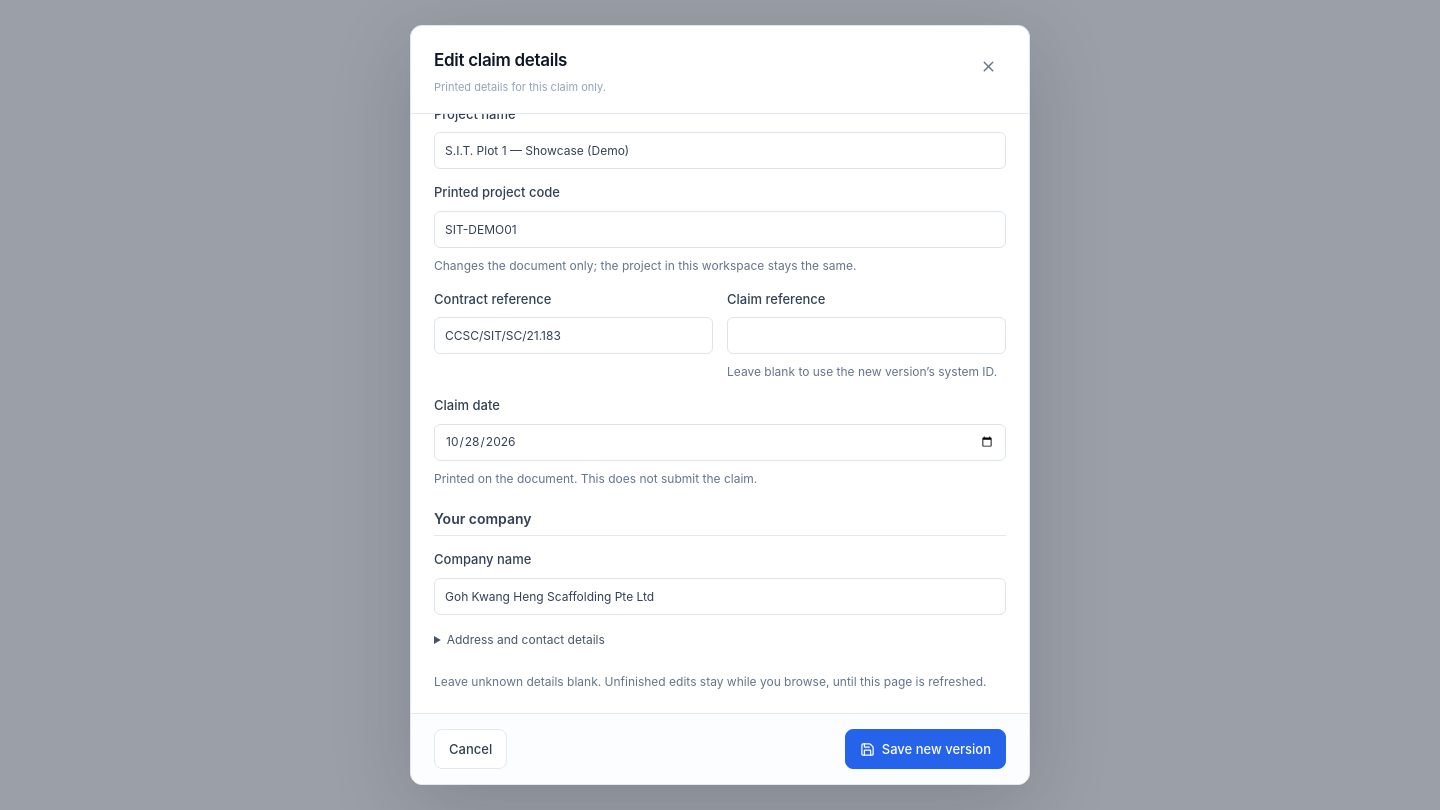
saved claim document detail editing › focuses invalid contact details and keeps the form on rejected saves
The width and height of the screenshot is (1440, 810).
(page scrolled)
Click the heading "Address and contact details": (519, 639) [434,629,605,650]
(page scrolled)
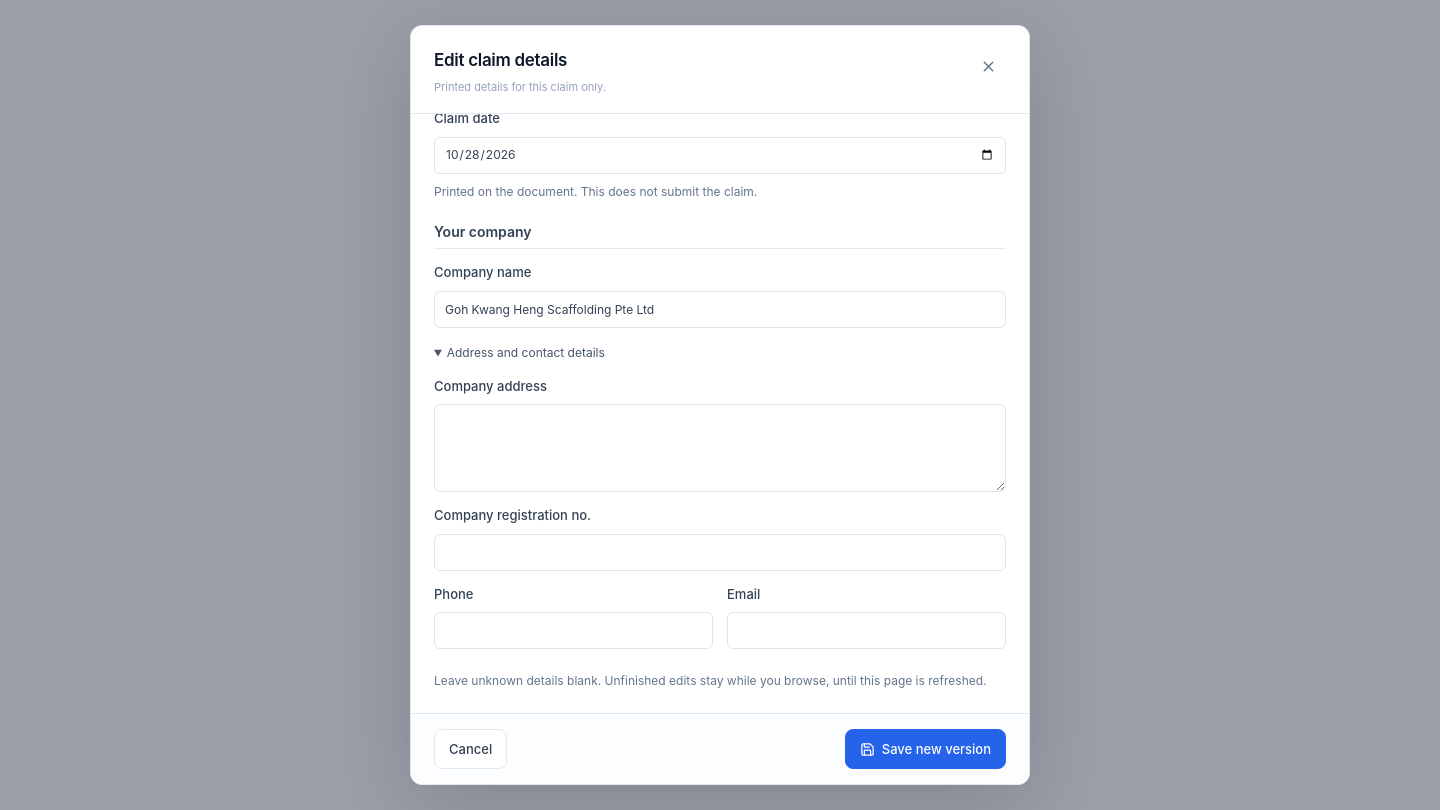
In the field labelled "Email": (866, 631) [727,612,1006,649], type "invalid-email"
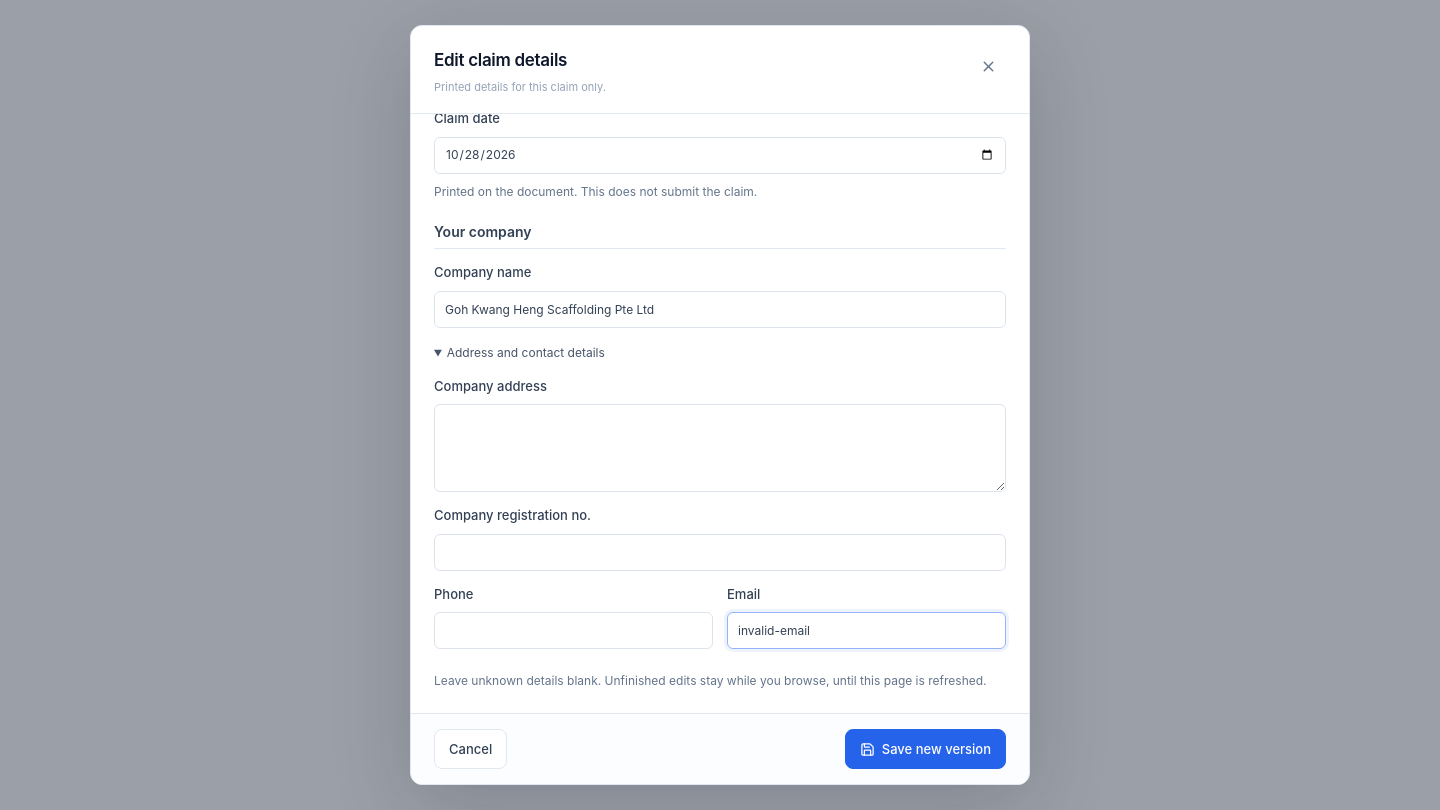
Click the button "Save new version": (925, 749) [845,729,1006,769]
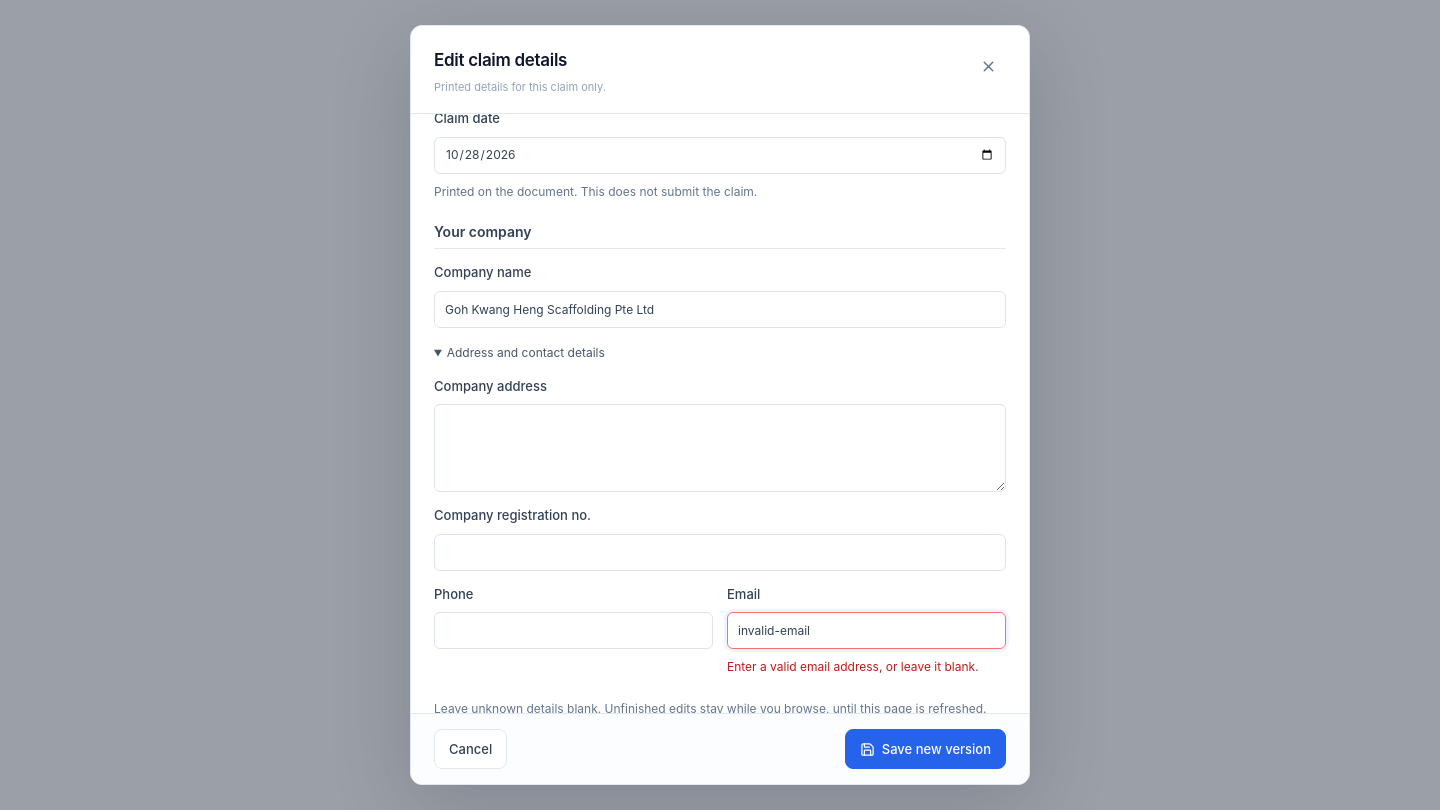
Expected: the text "Enter a valid email address, or leave it blank." is shown, [727,657,1006,677]
Replace the text in the field labelled "Email" with "claims@example.test": (866, 631) [727,612,1006,649]
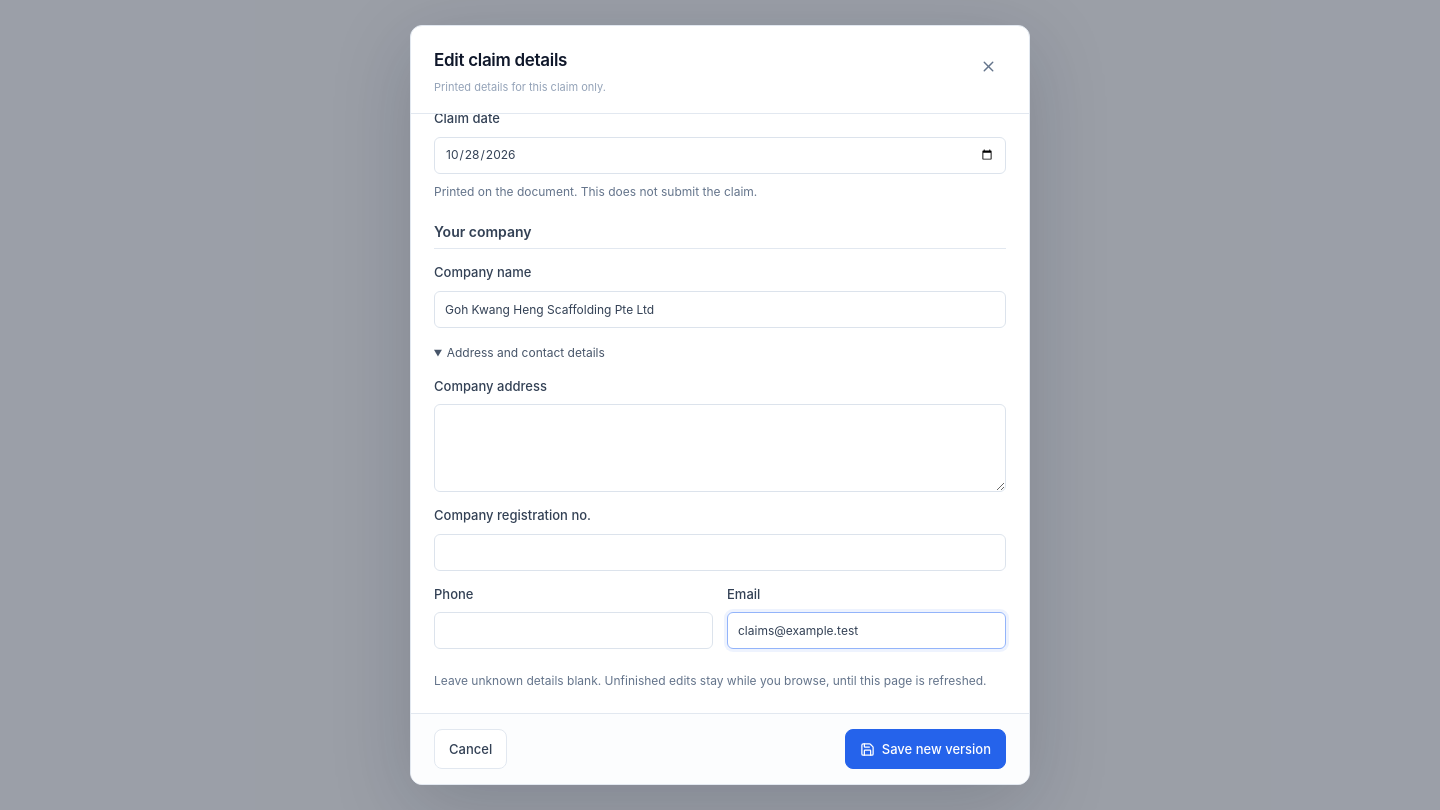
Click the button "Save new version": (925, 749) [845,729,1006,769]
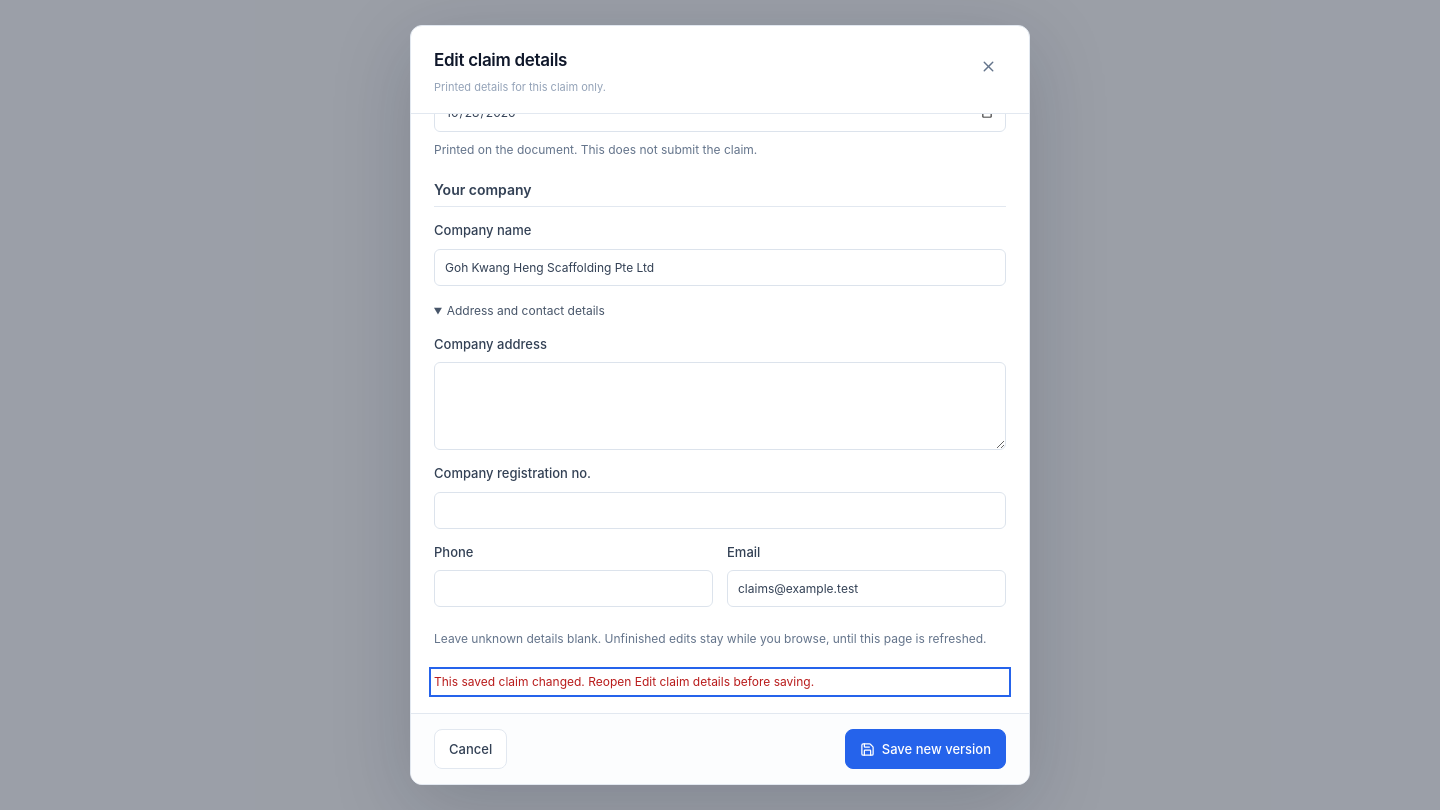
Expected: the message shows "This saved claim changed", [434,674,814,689]
